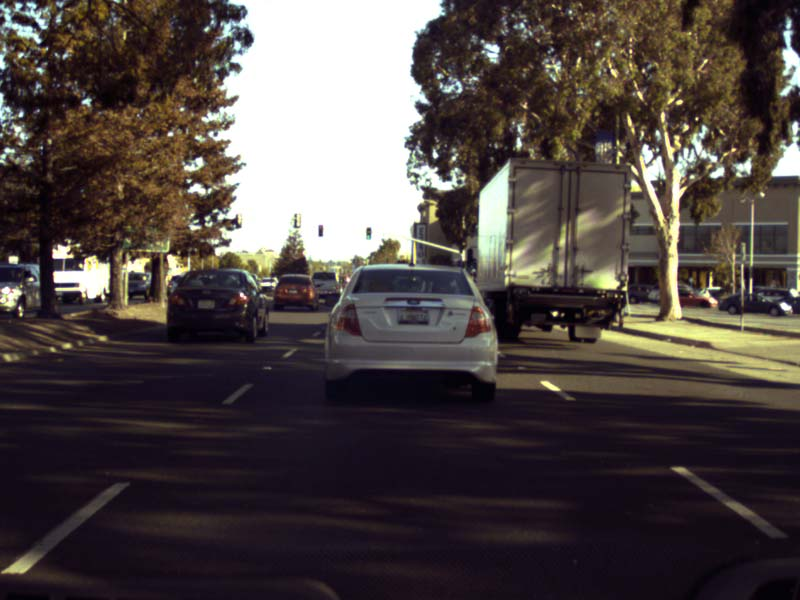Green: (365, 226, 371, 239)
Red: (318, 224, 323, 237)
